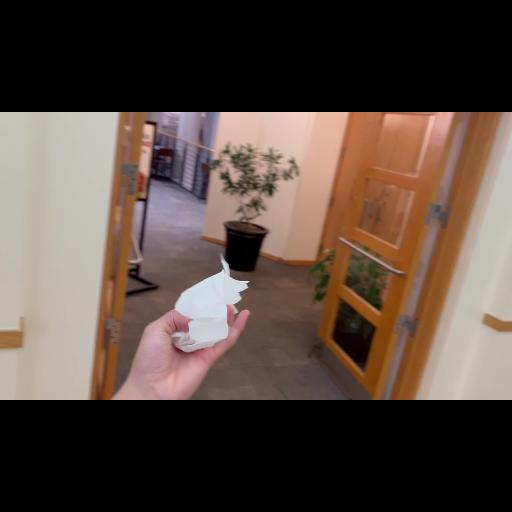napkin: (160, 248, 252, 358)
